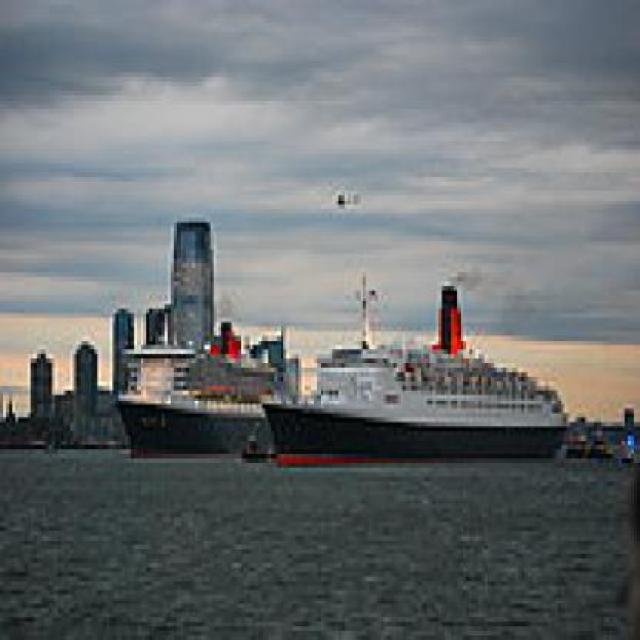cruise: (263, 274, 574, 474), (111, 301, 285, 469)
